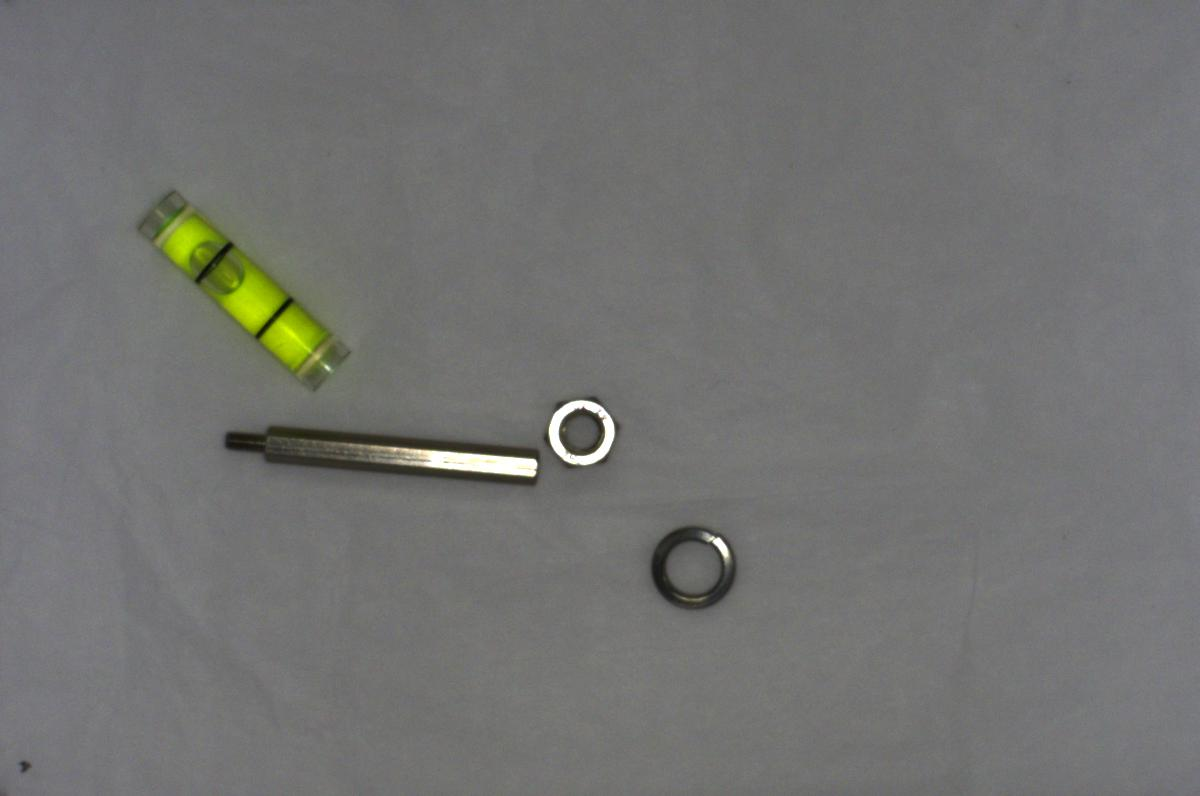Hexagon nut: (531, 383, 619, 473)
Hexagonal steel column: (219, 418, 540, 489)
Horizontal bubble: (131, 179, 353, 393)
Spring washer: (644, 521, 740, 613)
